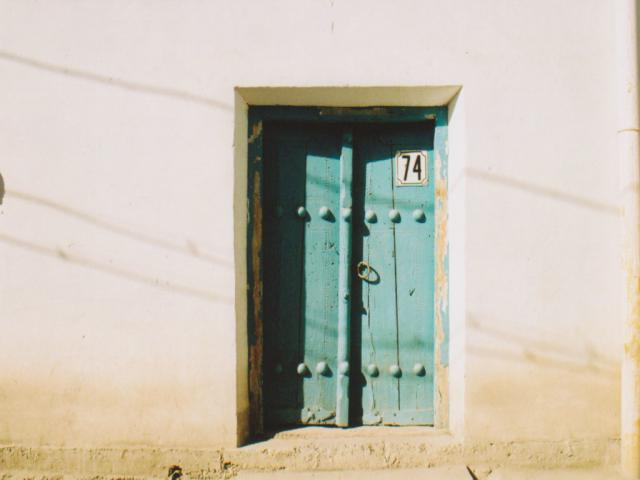Door-handle: (355, 260, 370, 278)
